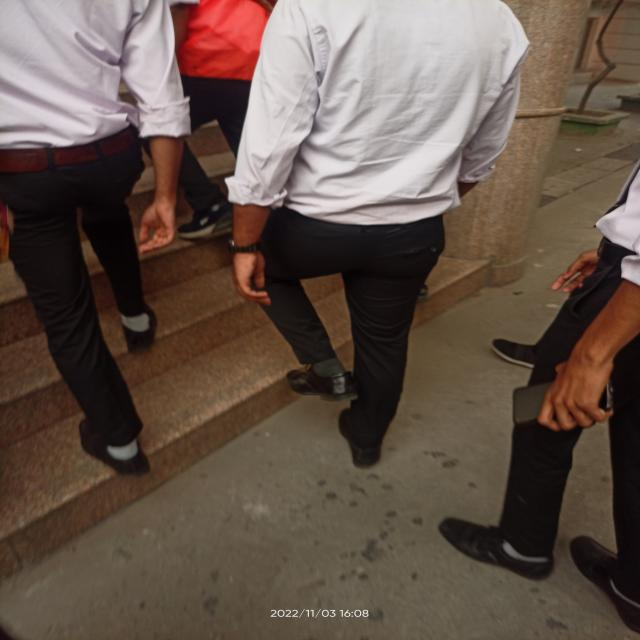no jacket: (230, 0, 533, 469), (3, 2, 194, 478)
